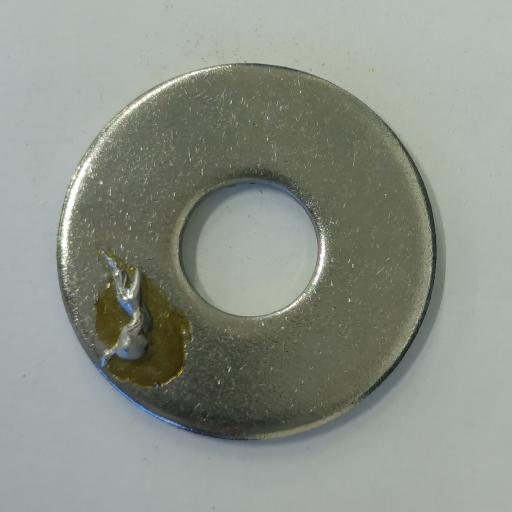excess_material: (100, 251, 155, 368)
